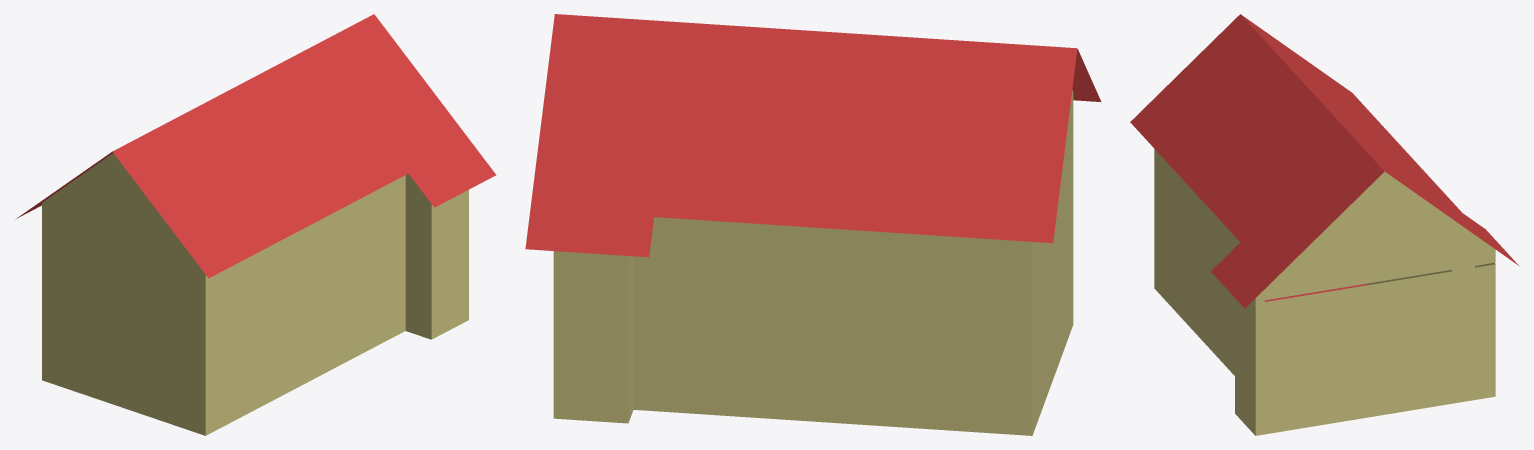
3 renders of one model, left to right at view 1: azimuth 30°, elevation 25°; view 2: azimuth 150°, elevation 25°; view 3: azimuth 270°, elevation 25°, orthographic. The views are drawn at different scales.
Size of the model in its own units: 25.11 by 20.82 by 14.84.
